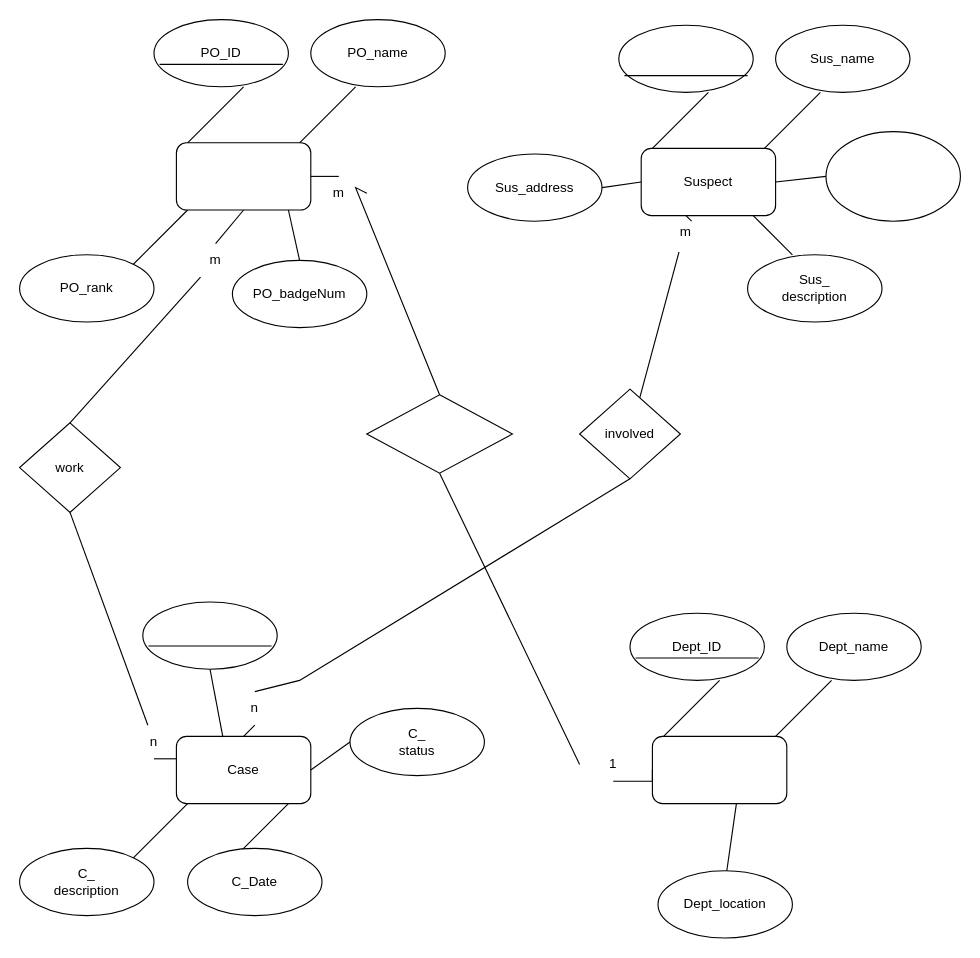
The diagram is 980 pixels wide and 958 high, and some of its shapes have lost their labels. The shapes that lost their labels are listed below. From the top down, each one's centre as x and y in pixels, then its label:
point 685,58: Sus_ID
point 243,176: Police Officer
point 892,175: Sus_DateBirth
point 439,433: belongs to
point 209,635: C_Num
point 719,769: Department Unit
